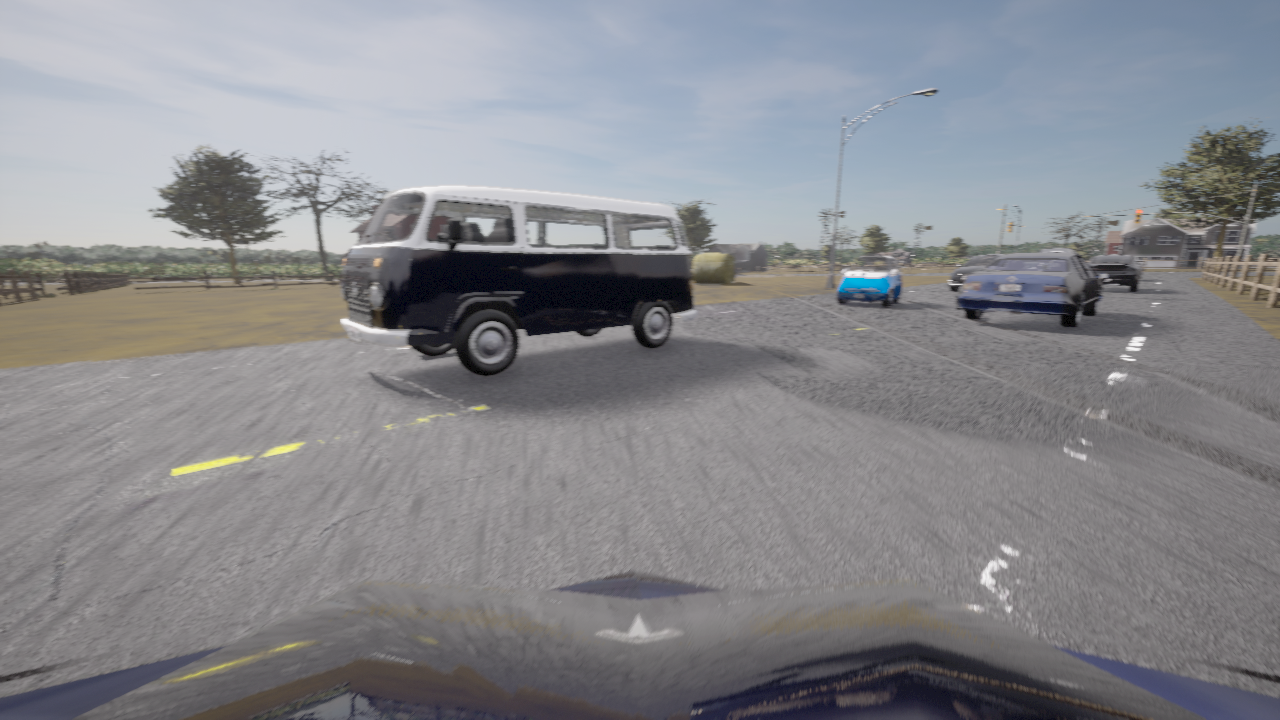cyclist: (0, 569, 1279, 719), (340, 185, 697, 376), (957, 252, 1107, 326), (837, 255, 902, 306), (1088, 254, 1147, 291), (949, 254, 1005, 291), (1039, 248, 1079, 254), (1136, 261, 1143, 278)
